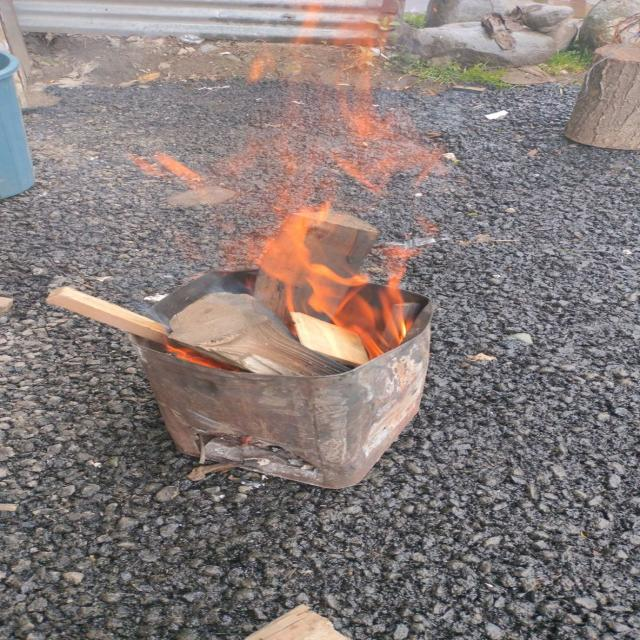fire: (249, 0, 446, 199), (252, 199, 422, 355)
